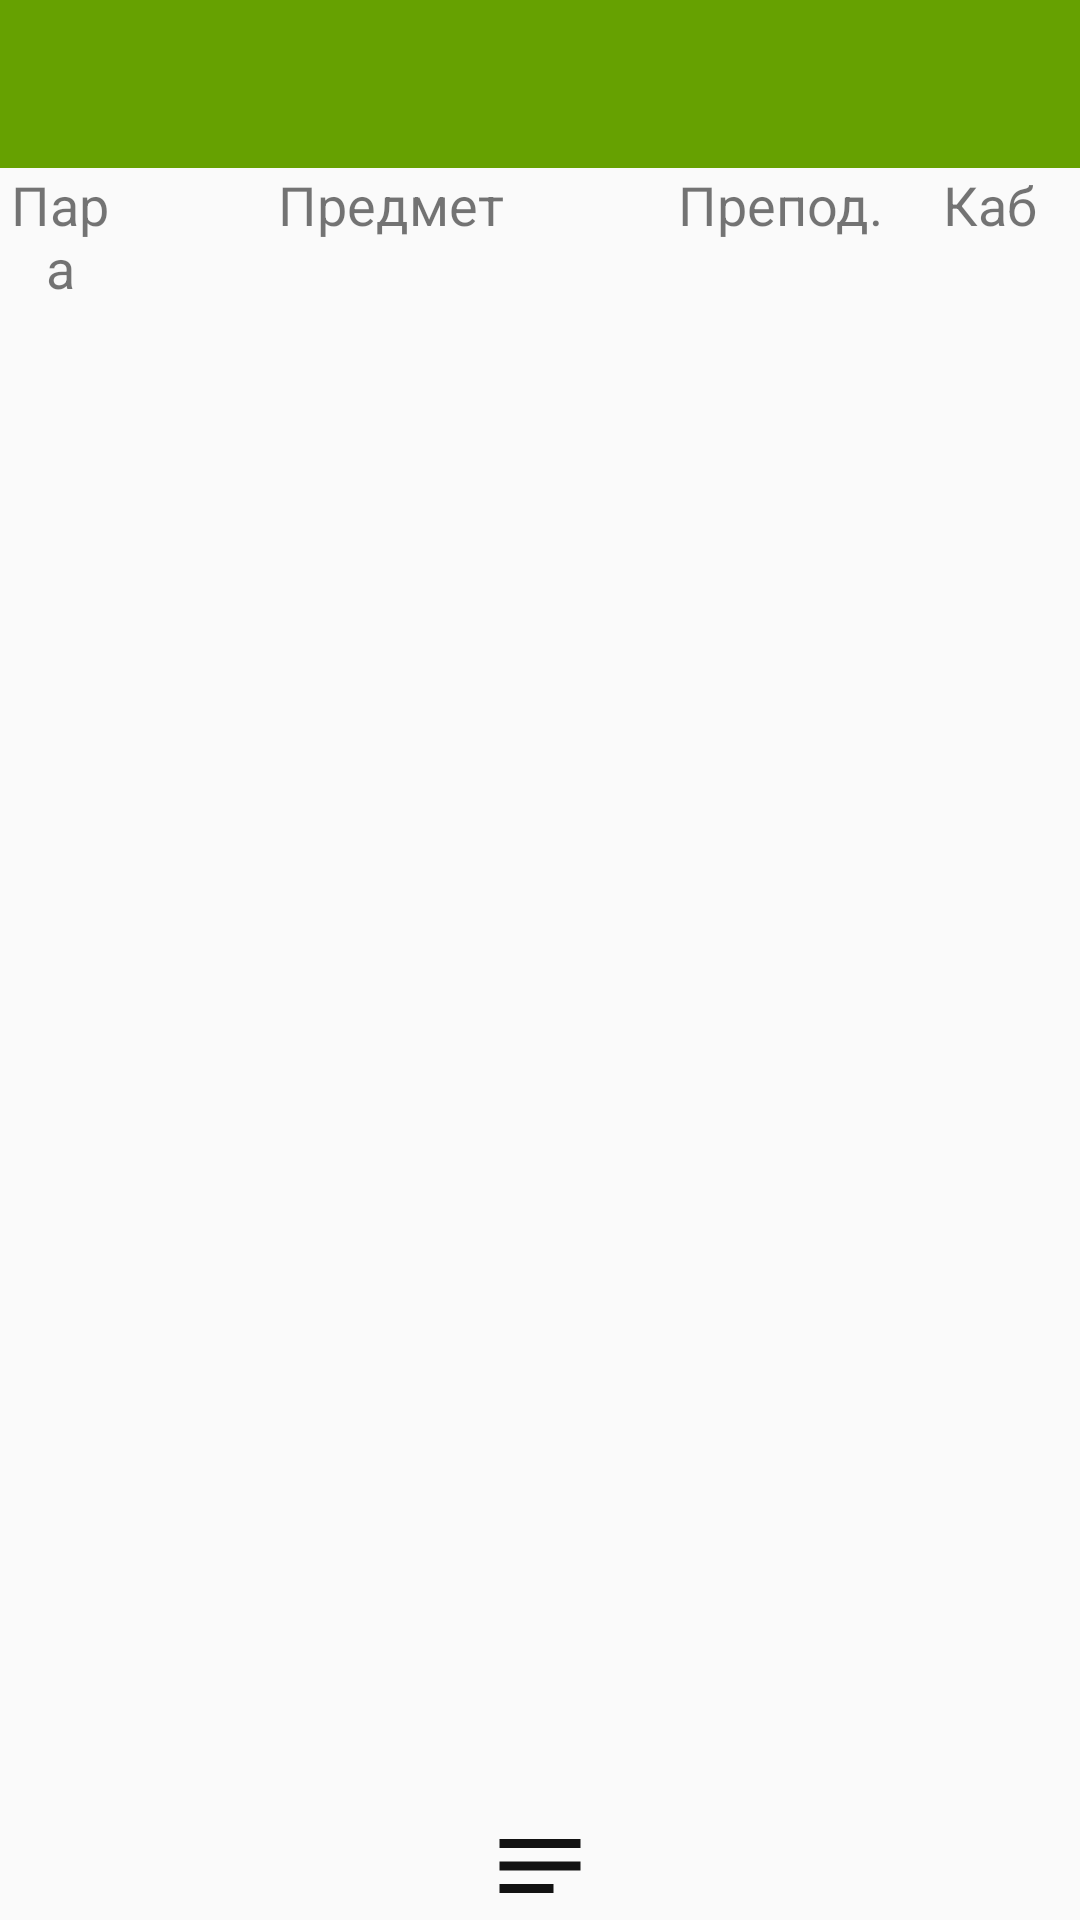

Locate icon controls on the screen. Image size 1080px×1920px, boxes as box=[x1, y1, x2, y2].
Открыть заметки: box=[499, 1839, 581, 1893]
